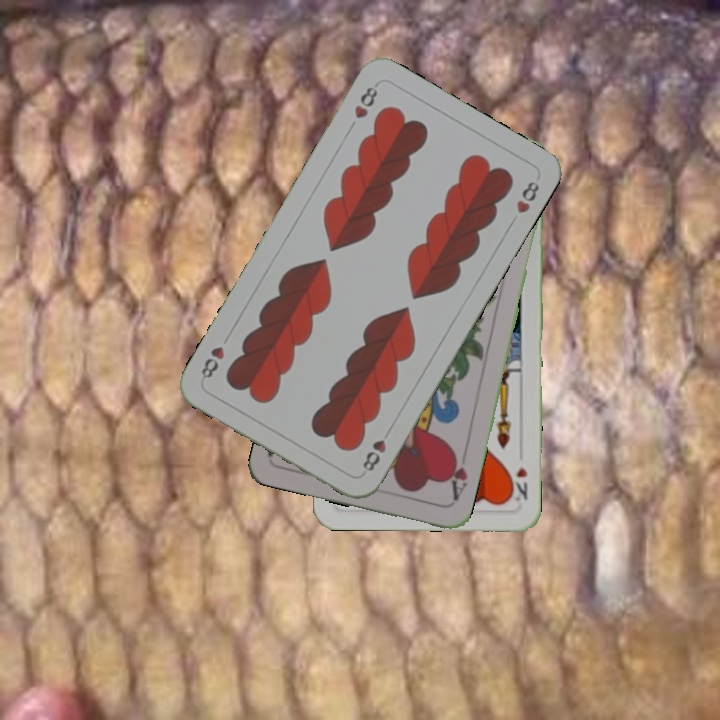H8: (358, 423, 394, 474), (350, 79, 381, 122)
HA: (443, 446, 470, 503)
HK: (506, 462, 530, 503)
